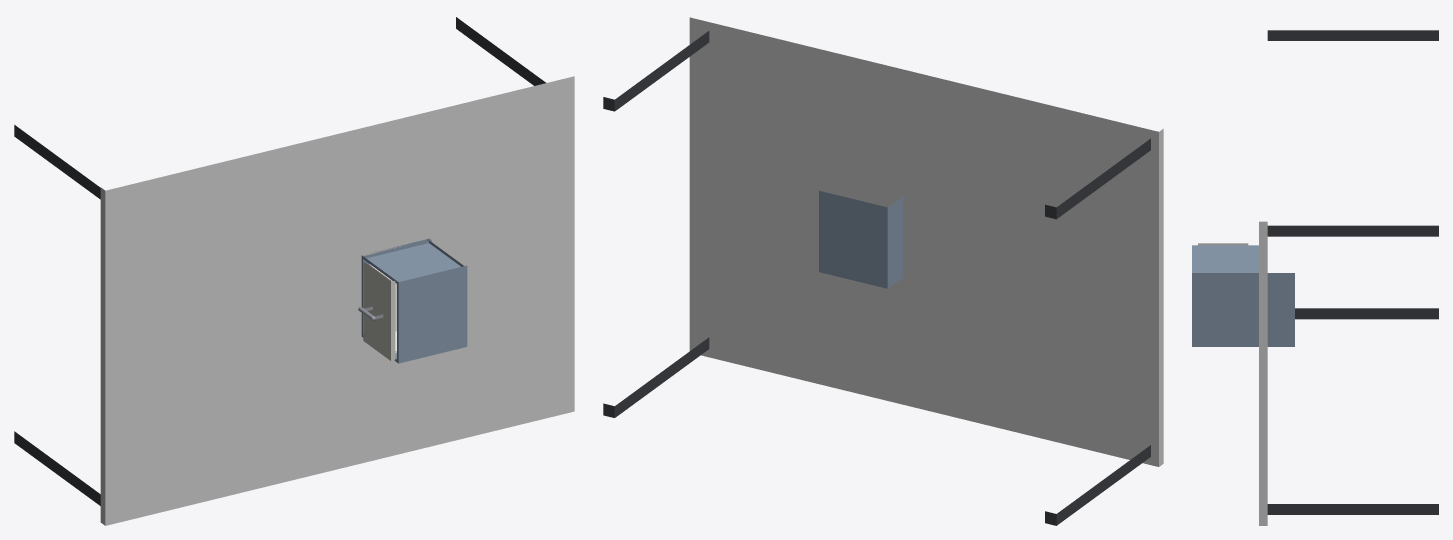
The model's file is t2_842a808ccd.glb.
3 views of the same model, side by side, from view 1: azimuth 30°, elevation 25°; view 2: azimuth 150°, elevation 25°; view 3: azimuth 270°, elevation 25° (orthographic). The views are drawn at different scales.
Visible parts, largest first — view 1: s0, s1, s2; view 2: s0, s1; view 3: s0, s1.
Boxes of the visible parts, x1,y1,x2,y2 form: s0: [14, 17, 574, 525]; s1: [361, 238, 467, 363]; s2: [358, 261, 396, 361]; s0: [603, 17, 1163, 525]; s1: [819, 190, 902, 288]; s0: [1259, 30, 1438, 525]; s1: [1192, 245, 1294, 346].
Bounding box in the file's own units: 2.05 × 1.4 × 1.03.
